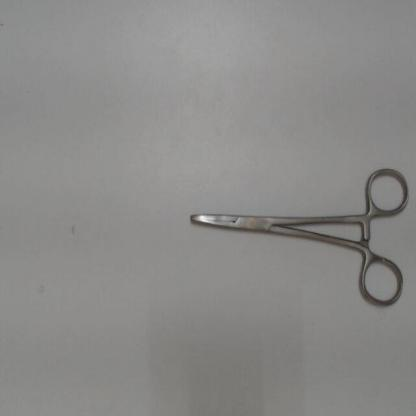Mayo Needle Holder: (183, 158, 414, 315)
